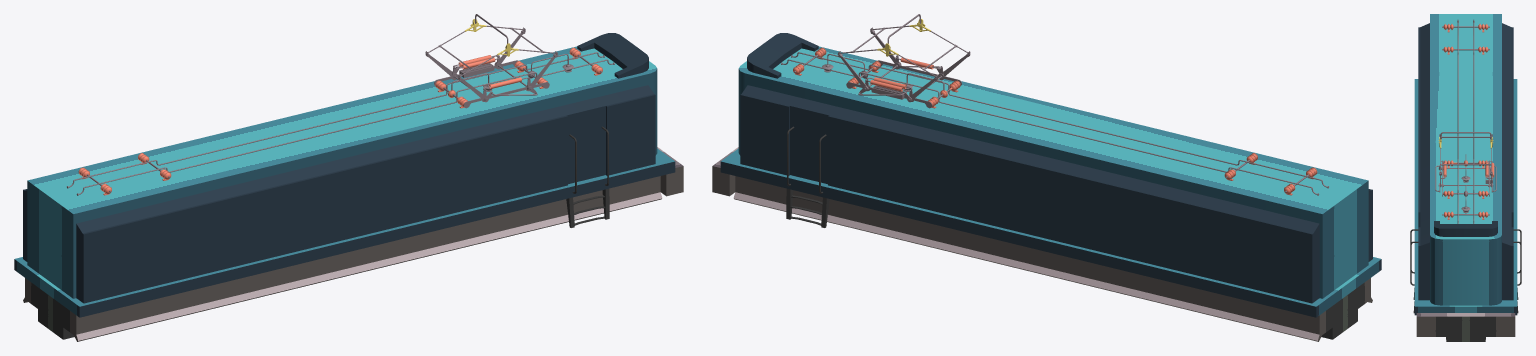
The model's file is train2top.glb.
3 renders of one model, left to right at view 1: azimuth 30°, elevation 25°; view 2: azimuth 150°, elevation 25°; view 3: azimuth 270°, elevation 25°, orthographic. The views are drawn at different scales.
Parts seen in each view (by area): view 1: Cube.004, Cube.003, e92.003, Cube.006, Cube.005; view 2: Cube.004, Cube.003, e92.003, Cube.006, Cube.005; view 3: Cube.004, e92.003, Cube.003, Cube.006, e92.006.
Boxes of the visible parts, box(x1,y1,x2,y2) form: Cube.004: box(14, 46, 675, 317); Cube.003: box(23, 147, 683, 341); e92.003: box(67, 14, 614, 195); Cube.006: box(577, 33, 648, 78); Cube.005: box(566, 188, 609, 227); Cube.004: box(720, 46, 1381, 317); Cube.003: box(712, 147, 1372, 341); e92.003: box(781, 14, 1328, 195); Cube.006: box(747, 33, 818, 78); Cube.005: box(786, 188, 829, 227); Cube.004: box(1414, 14, 1517, 315); e92.003: box(1435, 19, 1496, 223); Cube.003: box(1416, 313, 1515, 341); Cube.006: box(1434, 221, 1497, 236); e92.006: box(1410, 229, 1521, 285).
Bounding box in the file's own units: 24.45 × 7.64 × 4.98.
1 material, 1 textured.
